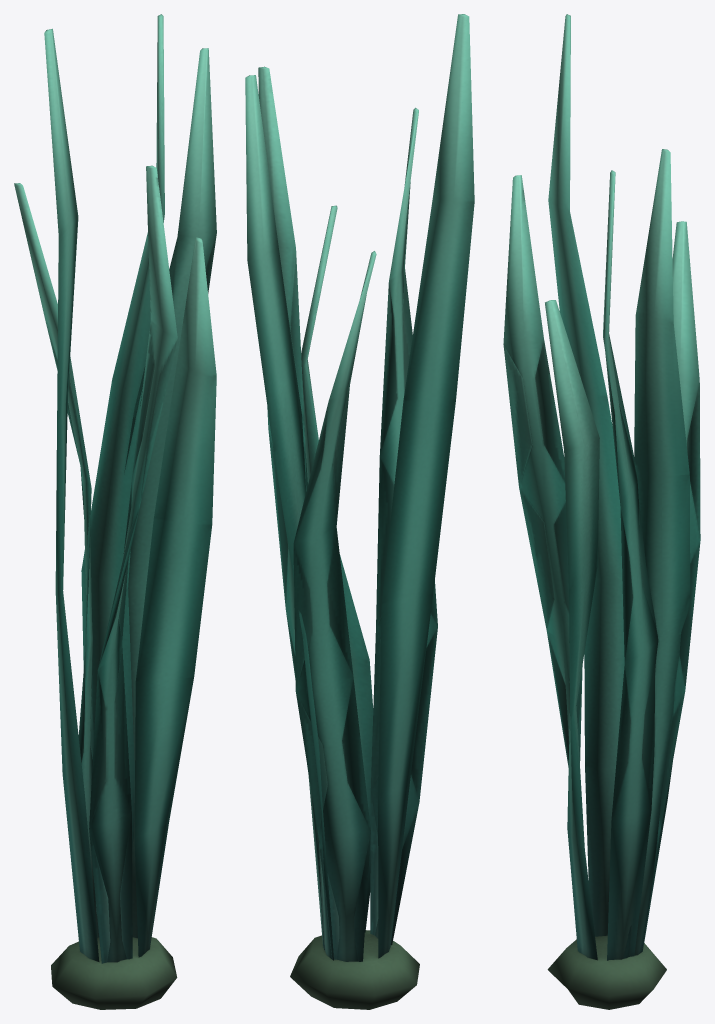
Rendered from Alga_A.fbx.
The picture shows the model from 3 angles, left to right: view 1: azimuth 30°, elevation 25°; view 2: azimuth 150°, elevation 25°; view 3: azimuth 270°, elevation 25°; orthographic projection. The views are drawn at different scales.
Parts seen in each view (by area): view 1: Malla; view 2: Malla; view 3: Malla.
Boxes of the visible parts, x1,y1,x2,y2 form: Malla: (14, 14, 216, 1009); Malla: (245, 14, 474, 1009); Malla: (503, 14, 700, 1009).
Bounding box in the file's own units: 0.4561 × 2.26 × 0.4319.
1 material, 1 textured.
